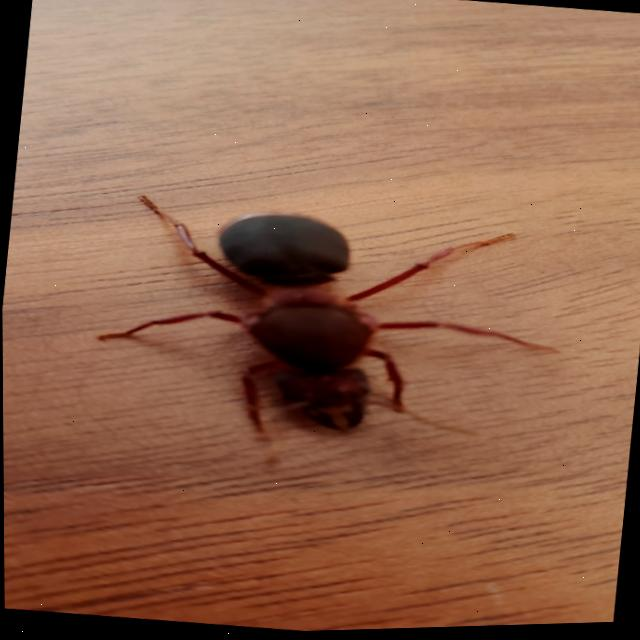Alive-Female-Dealate: (83, 181, 574, 510)
